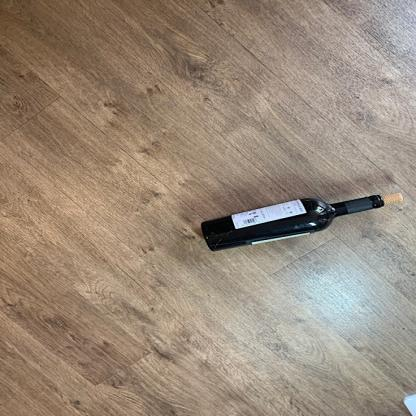trash: (192, 193, 384, 255)
